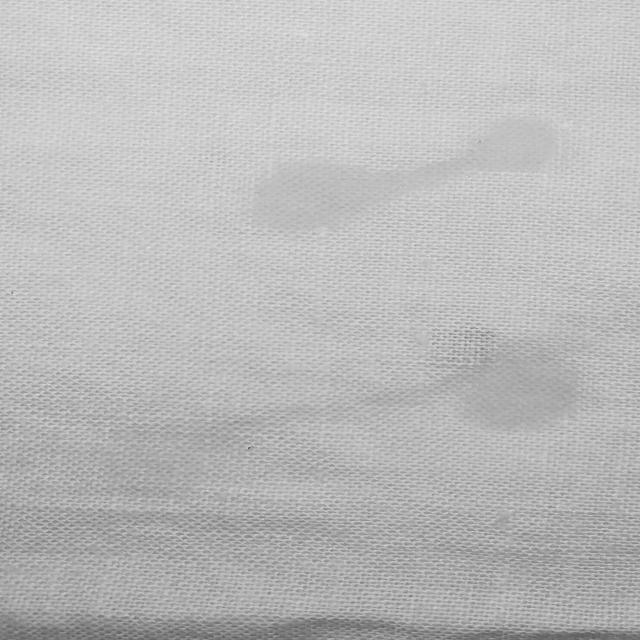Stain: (252, 119, 559, 232), (367, 350, 582, 432)
